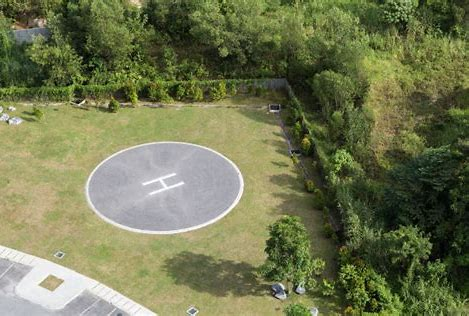H: (143, 172, 185, 195)
